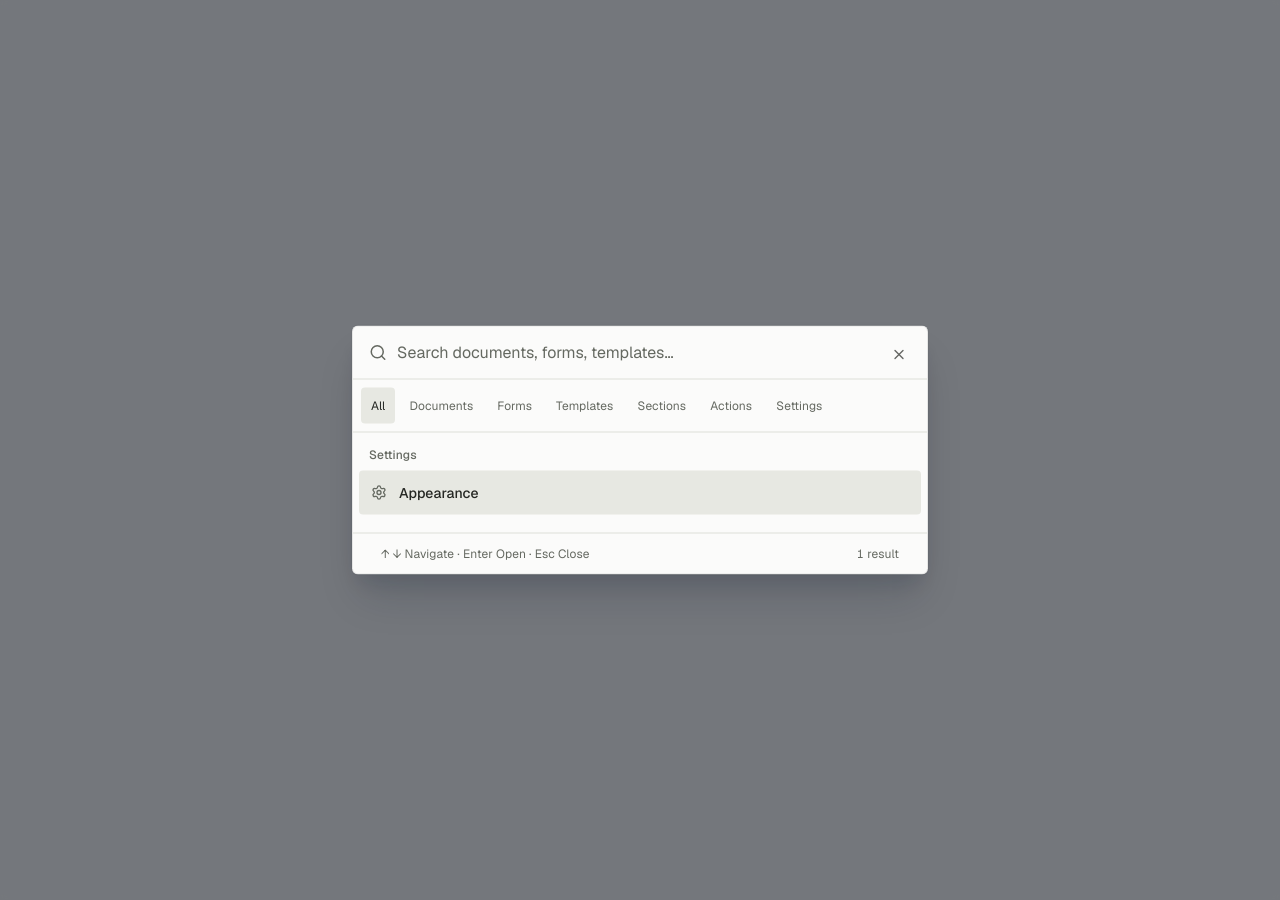
Test case: empty search › explains an empty saved-work scope instead of reporting no results for nothing
Step 1. Click the button "Forms" → click(515, 406), box x1=487 y1=388 x2=542 y2=424
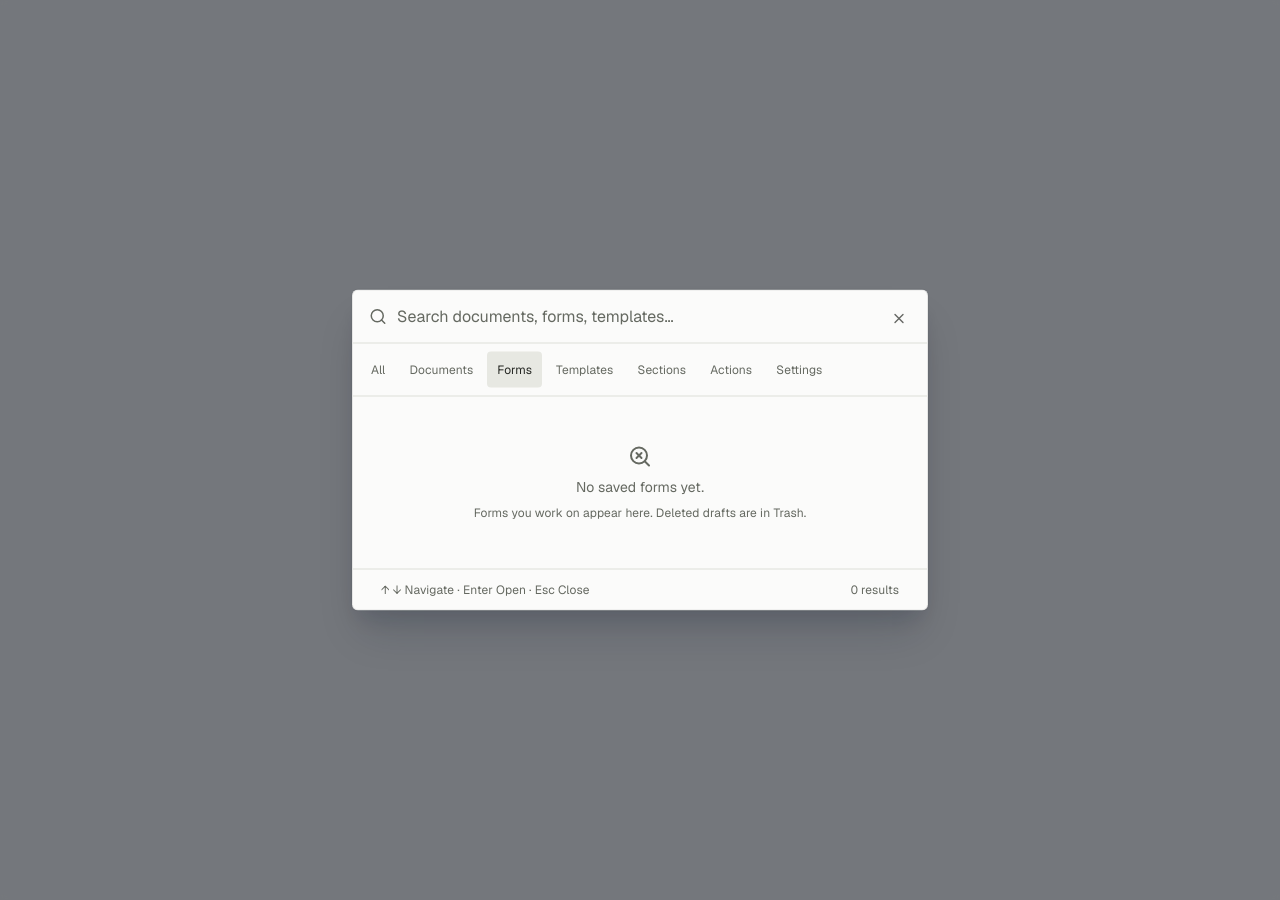
Expected: the text "No results for" is not shown
Now the text "No saved forms yet." is shown, box x1=576 y1=476 x2=704 y2=496
Step 2. Type "leave" into the dropdown → (638, 316), box x1=397 y1=304 x2=879 y2=328
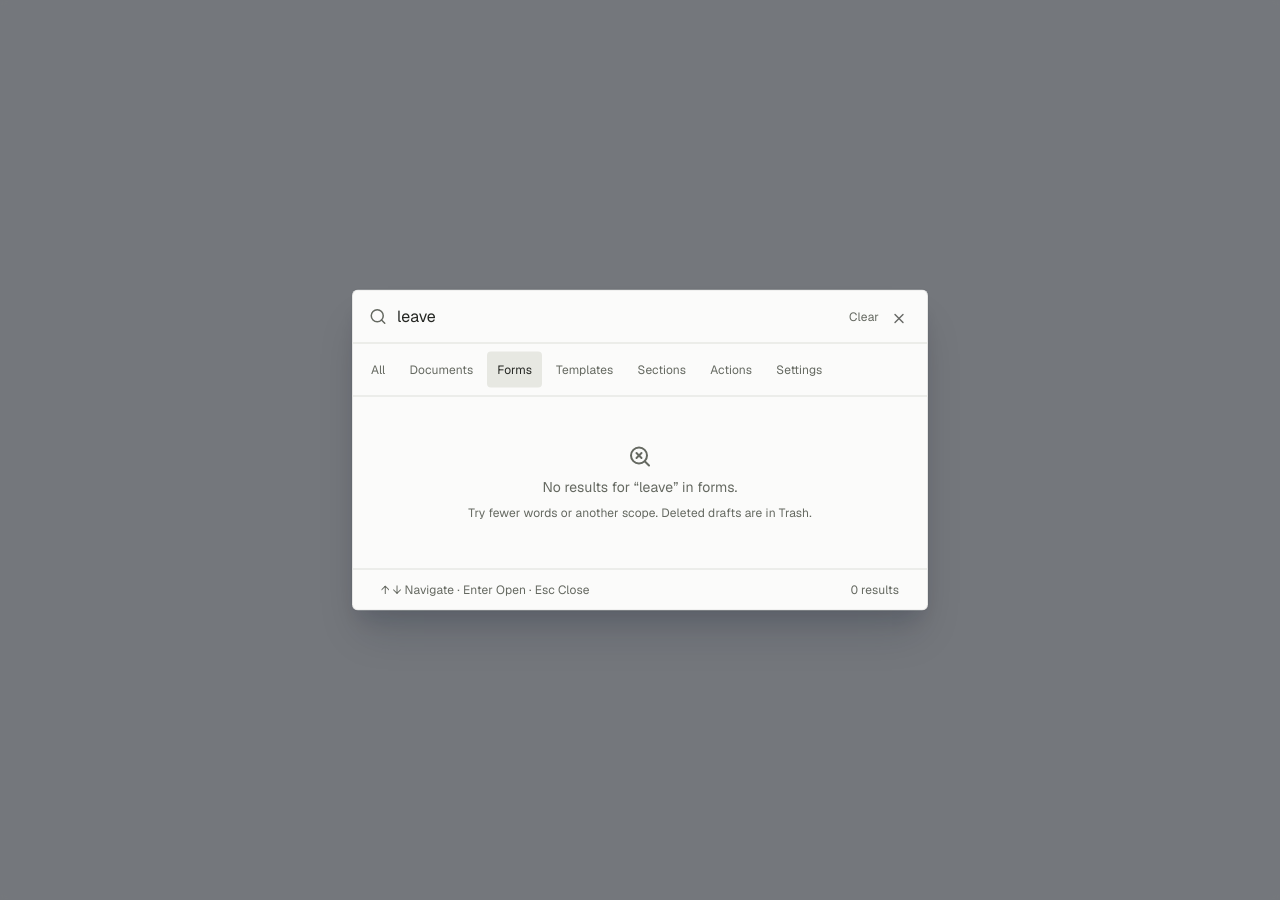
Now the text "No results for “leave” in forms." is shown, box x1=542 y1=476 x2=738 y2=496
